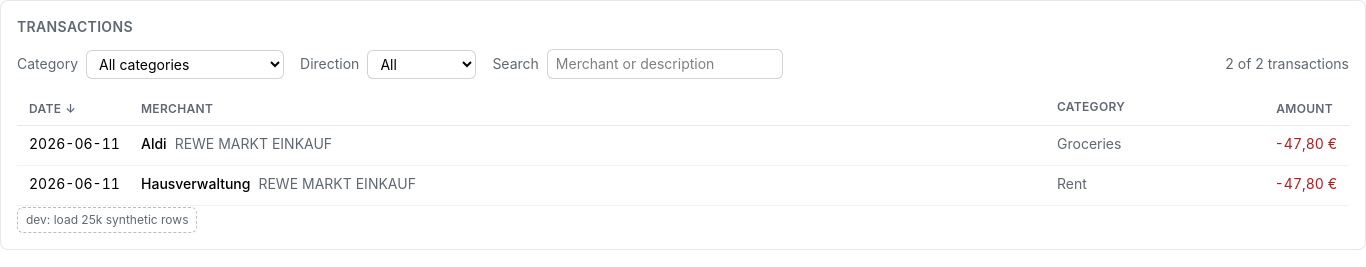
Test case: TransactionsPanel › filters by category from the registry and shows the filtered count
Expected: the table named "Transactions" is shown, [17,91,1349,206]
Select "Groceries" in the dropdown labelled "Category" at [185, 64], box [86,50,284,78]
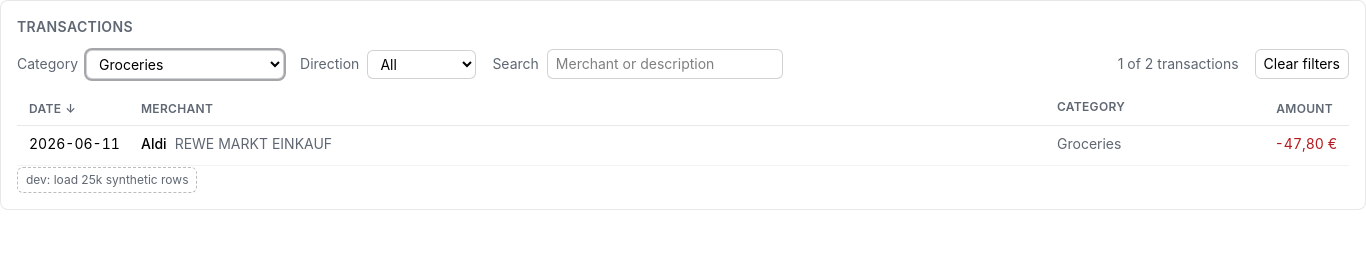
Expected: the text "1 of 2 transactions" is shown, [1118,54,1239,74]
Expected: the text "Hausverwaltung" is gone
